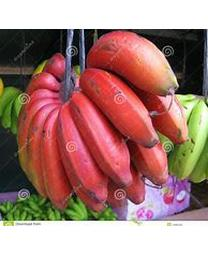banana: (11, 30, 201, 216)
